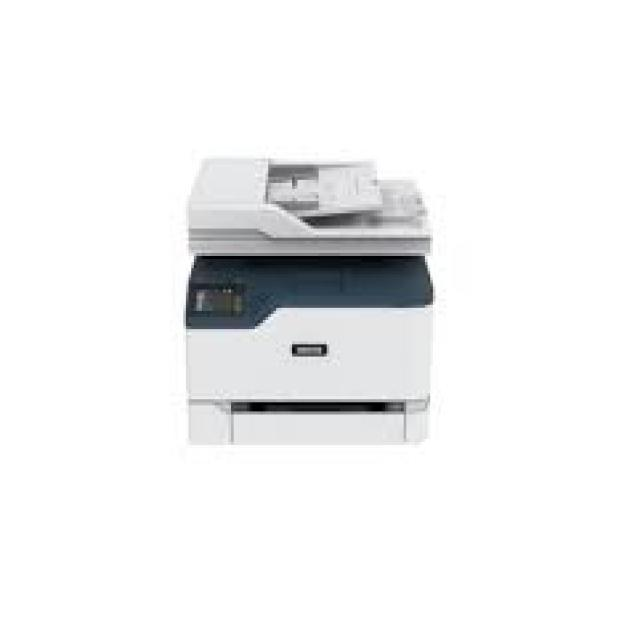printer: (160, 123, 456, 470)
